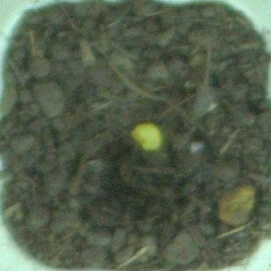chilli seed: (131, 122, 165, 152)
